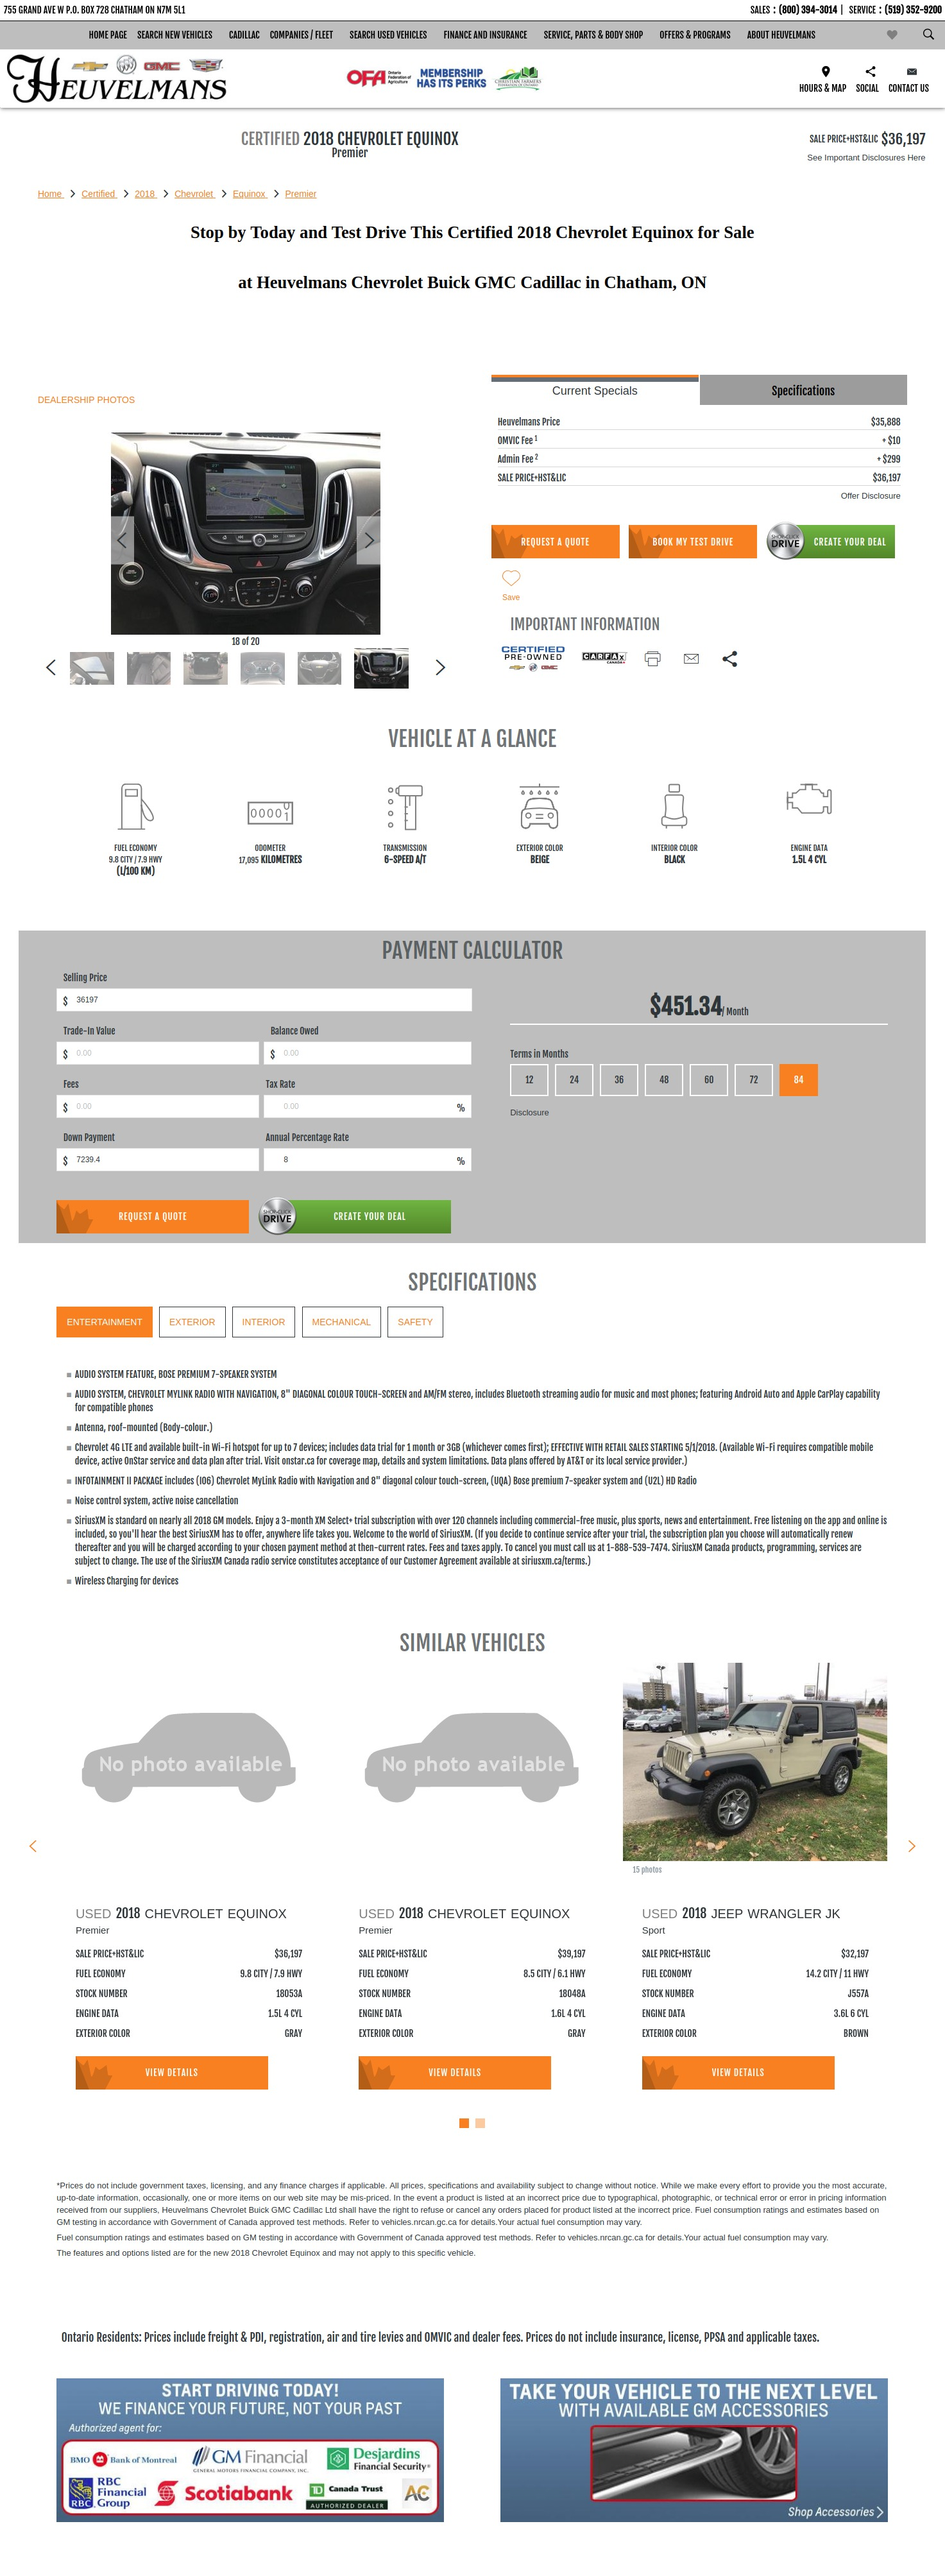car: (436, 660, 445, 675)
